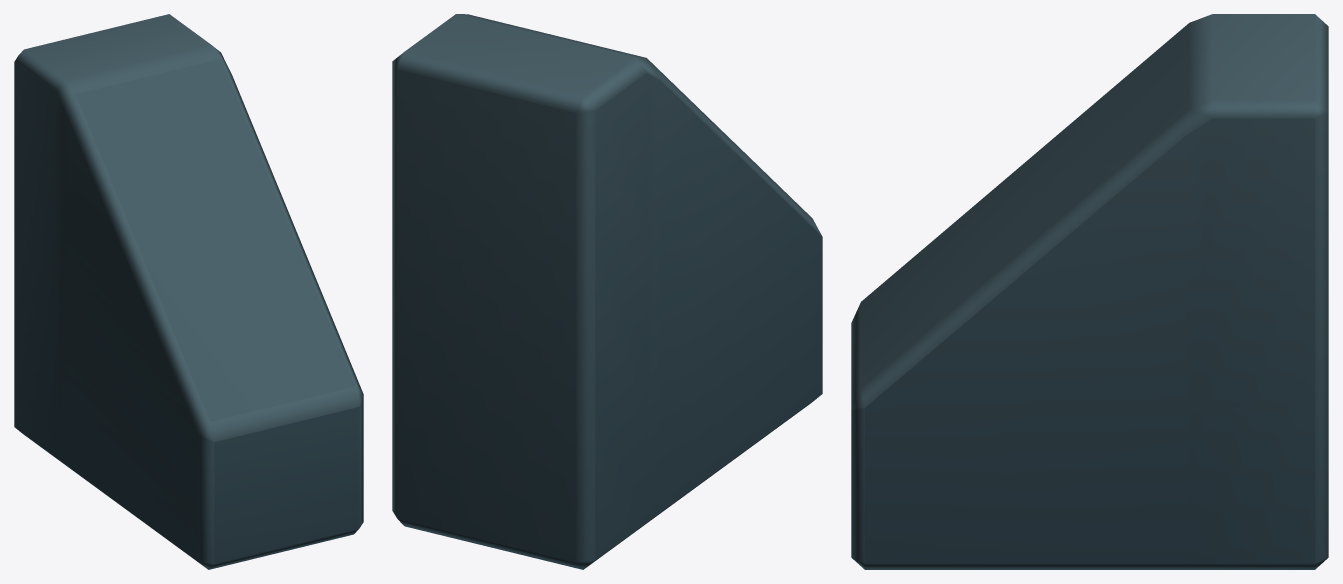
Rendered from stair_sidewall.fbx.
3 views of the same model, side by side, from view 1: azimuth 30°, elevation 25°; view 2: azimuth 150°, elevation 25°; view 3: azimuth 270°, elevation 25° (orthographic). The views are drawn at different scales.
Visible parts, largest first — view 1: stair_sidewall; view 2: stair_sidewall; view 3: stair_sidewall.
Boxes of the visible parts, x1=… form: stair_sidewall: x1=14, y1=14, x2=363, y2=569; stair_sidewall: x1=392, y1=14, x2=822, y2=569; stair_sidewall: x1=851, y1=14, x2=1328, y2=569.
Bounding box in the file's own units: 53.12 × 119 × 109.
